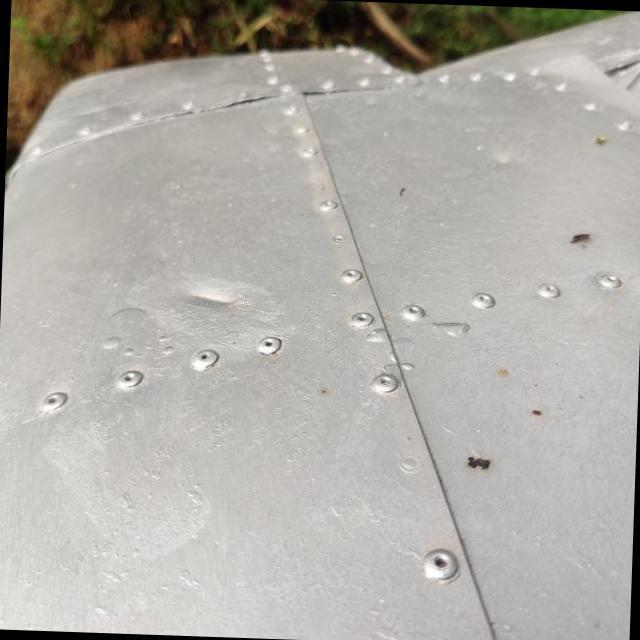Dent: (159, 250, 267, 344)
